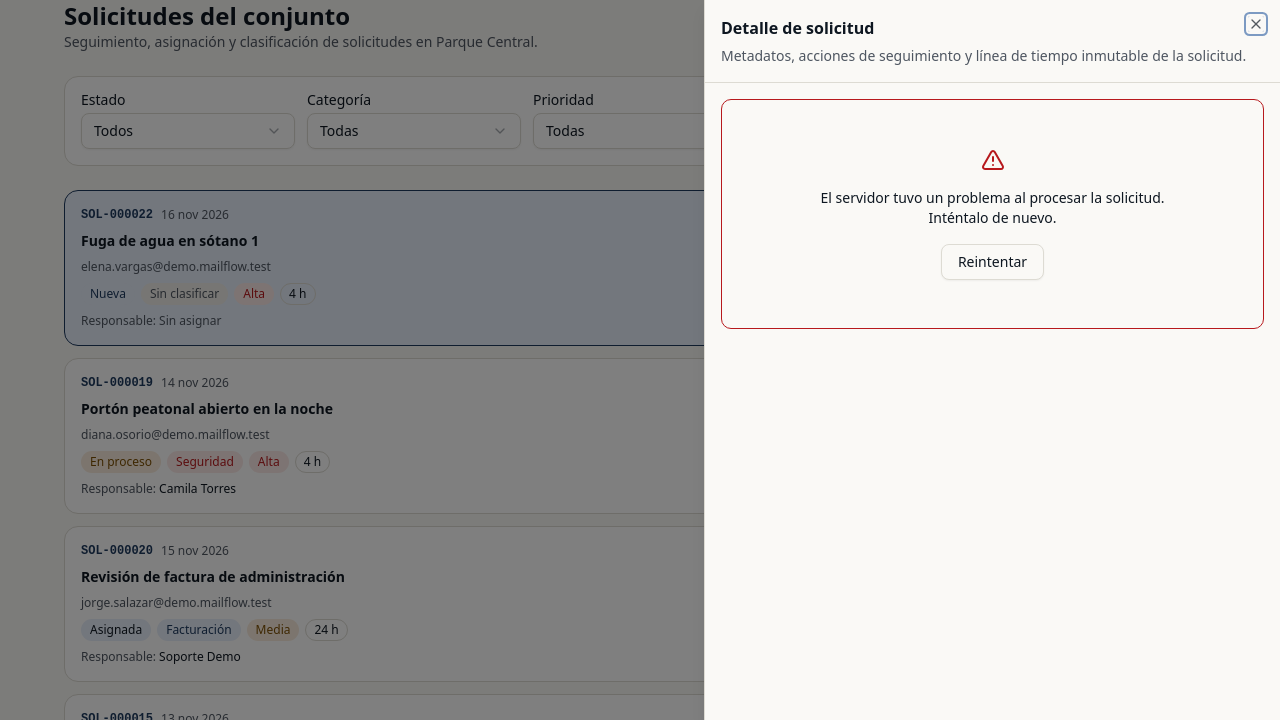
it: SolicitudesPage · filtros y parámetros de URL › muestra EstadoError con Reintentar si falla la carga del detalle y permite reintentar
Step 1. Click the button "Reintentar" → click(992, 262), box [941,244,1044,280]
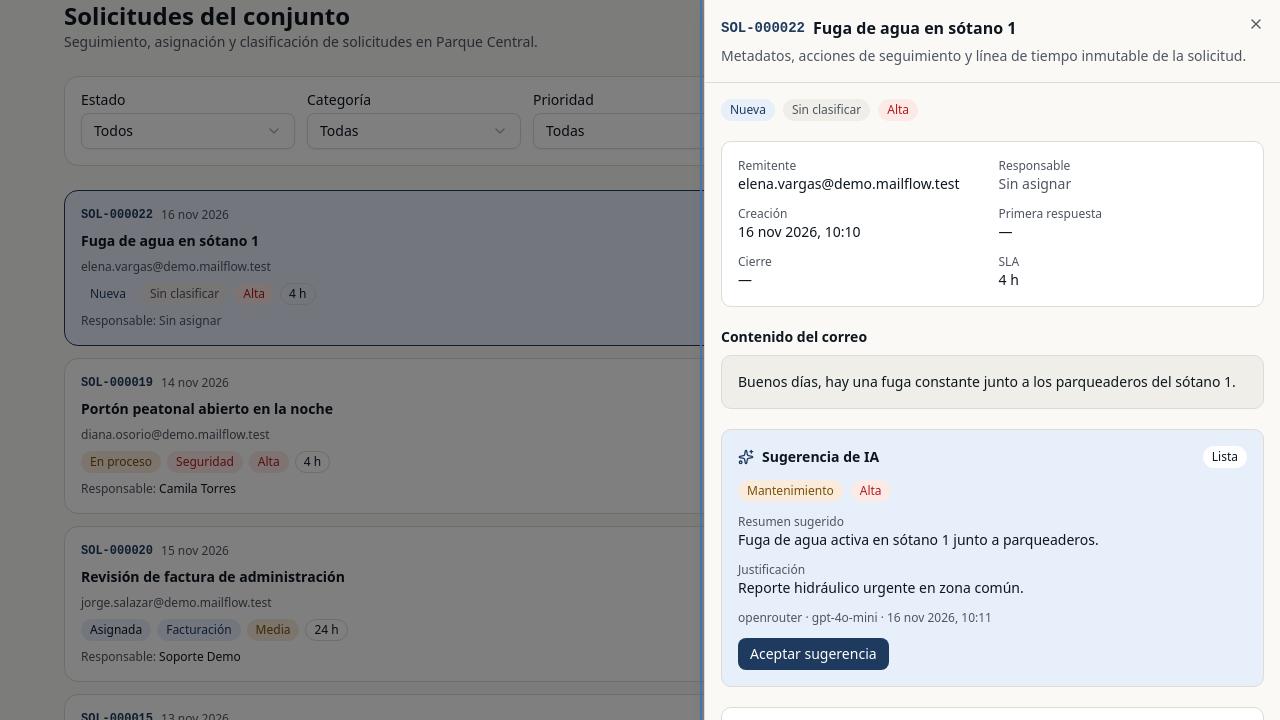
Expected: the text "fuga constante junto a los parqueaderos" is shown, [738,372,1236,391]
